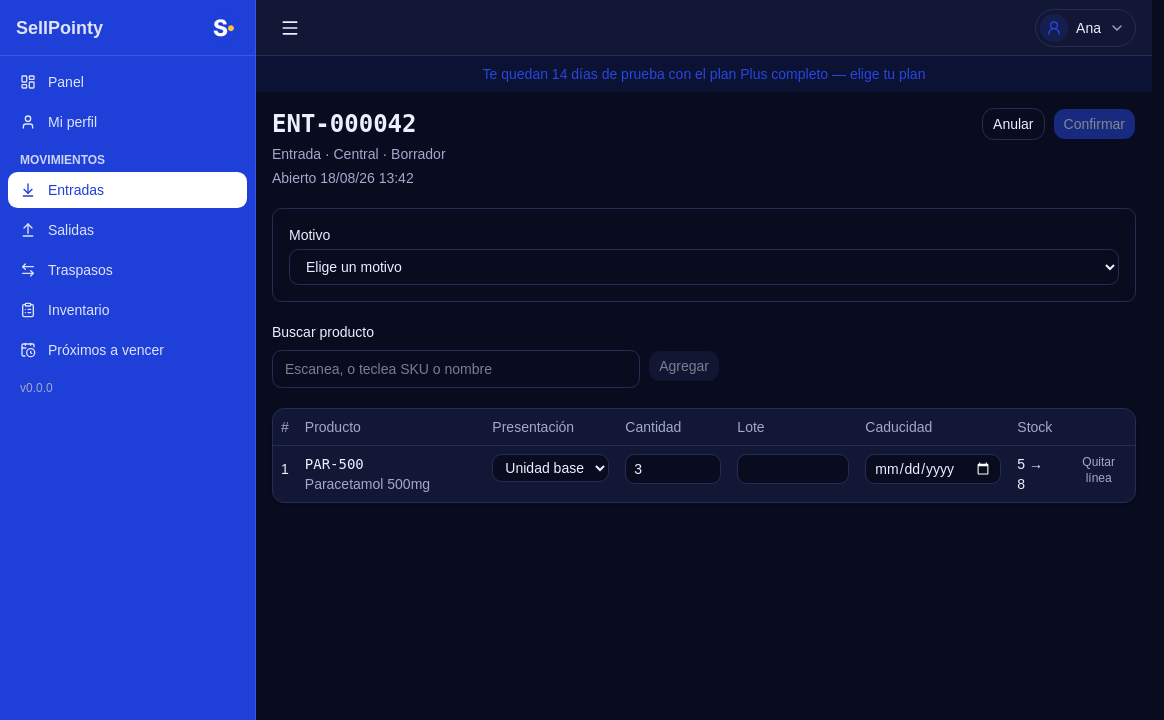
La cara de entrada del documento (F3-ENTRY-02) › la captura de lote en la entrada (F3-LOTS) › teclear un lote que ya existe autocompleta su caducidad
Expected: the text "PAR-500" is shown, [305,454,364,474]
Step 1. Type "st4" into the field named "lote" → (793, 469), box [737,454,849,484]
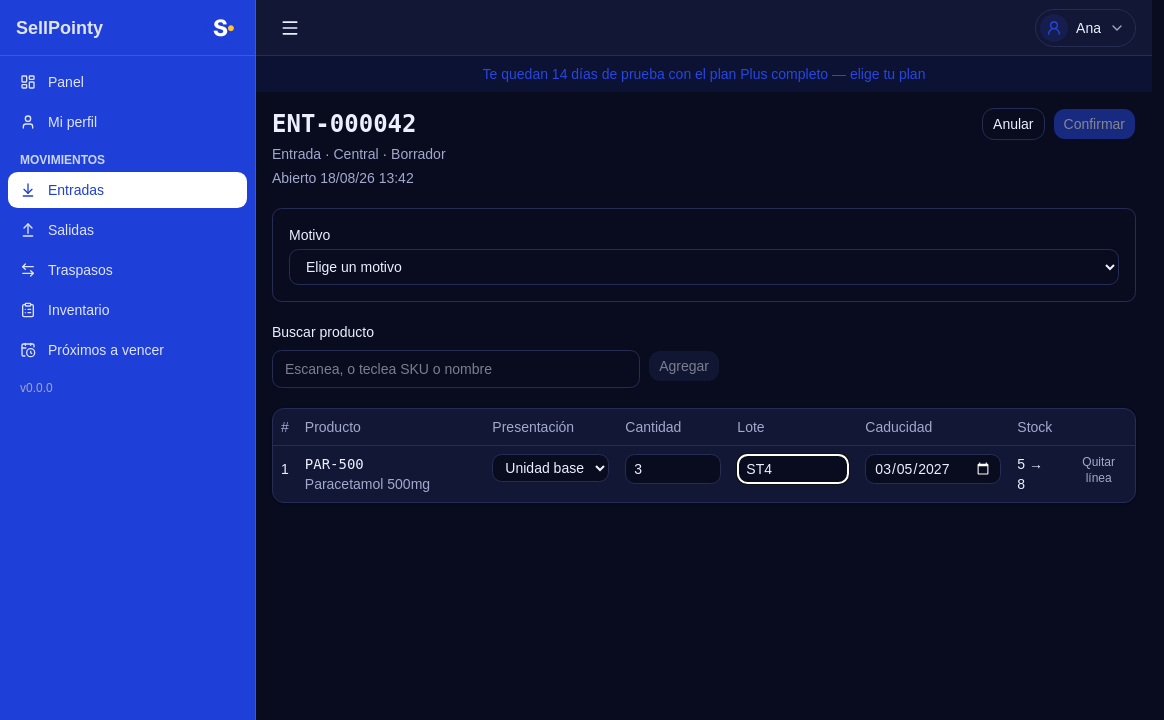
Expected: the date field named "caducidad" holds "2027-03-05", [865,454,1001,484]
